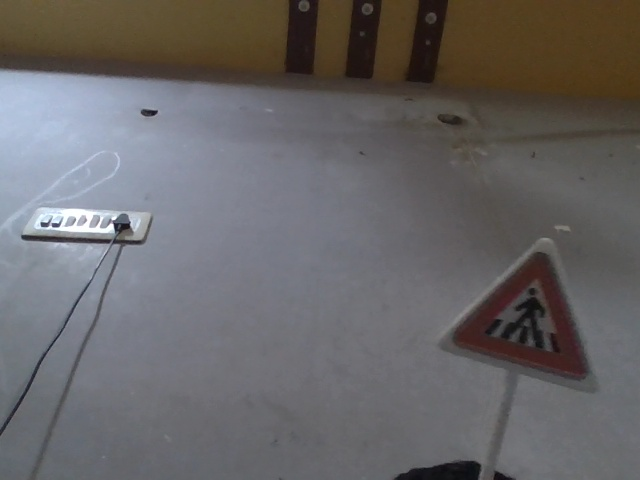crossing: (420, 216, 600, 394)
